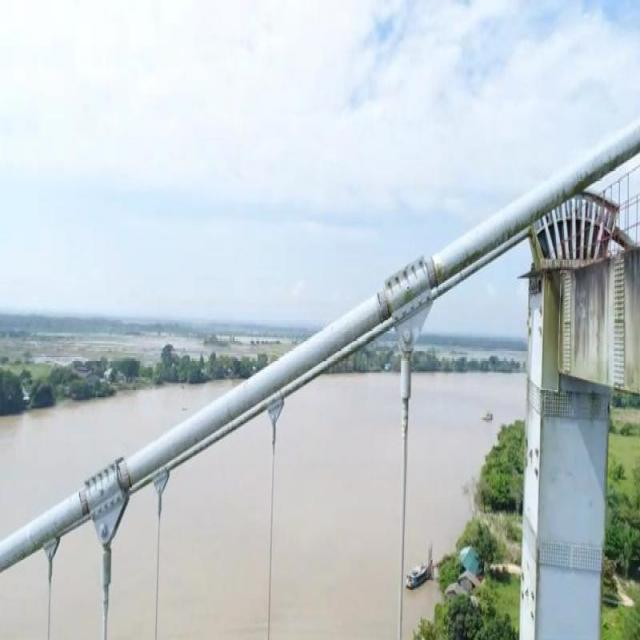Slippage: (376, 288, 391, 320), (426, 258, 438, 290), (118, 462, 131, 489), (80, 487, 90, 516)
